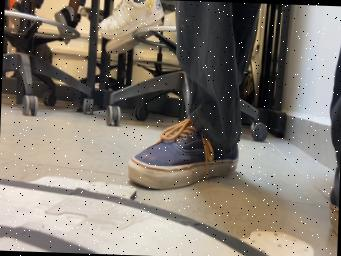street: (0, 178, 268, 256)
